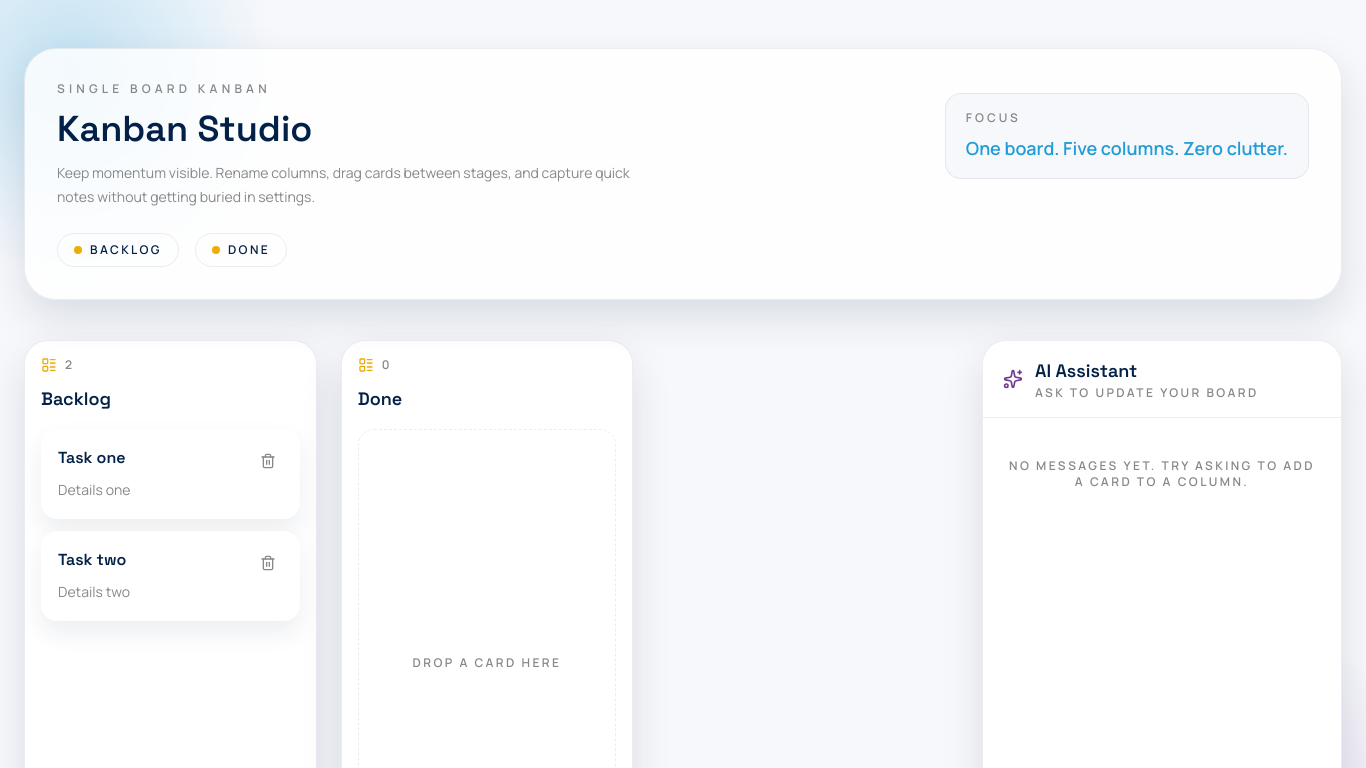
KanbanBoard › deletes a card and persists
Click the button named "delete task one".
click(268, 461)  # box x1=253 y1=446 x2=283 y2=476
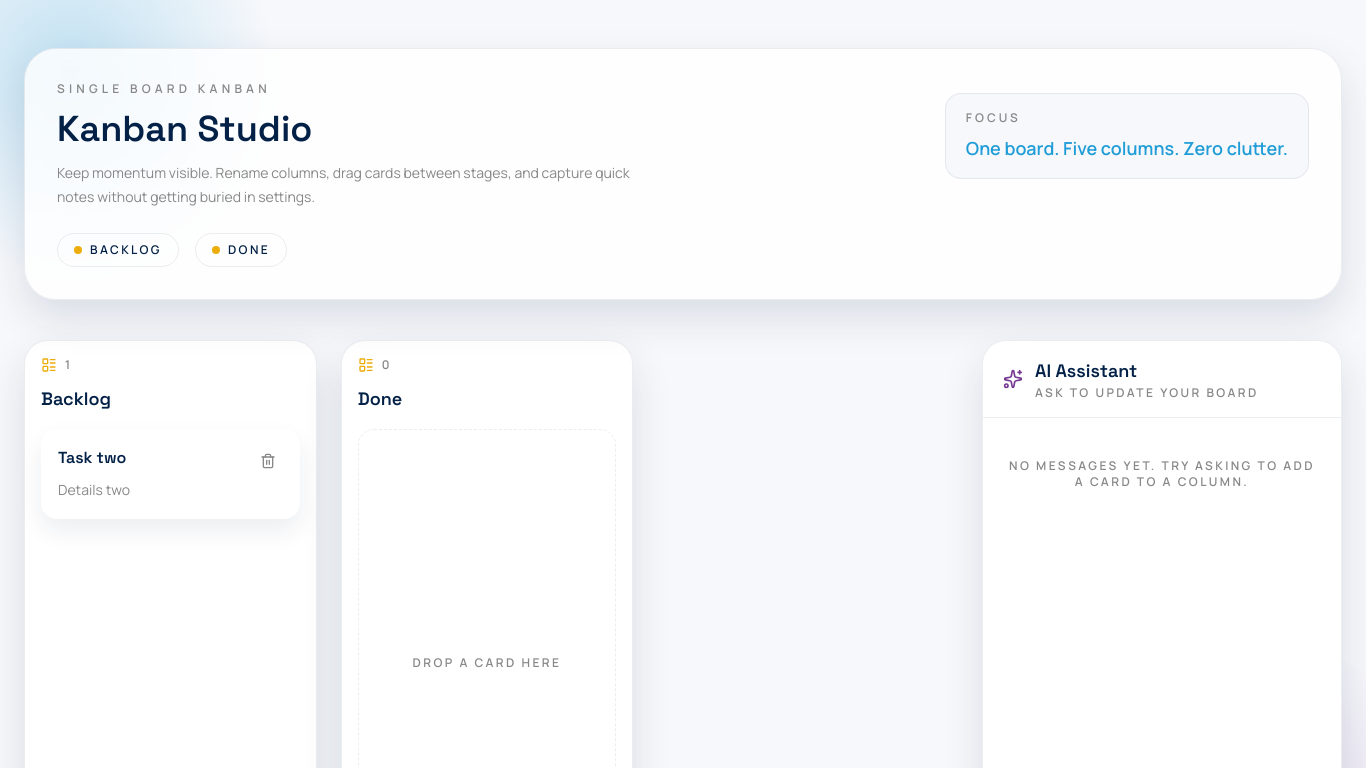
Check: the button "Task one" is gone
